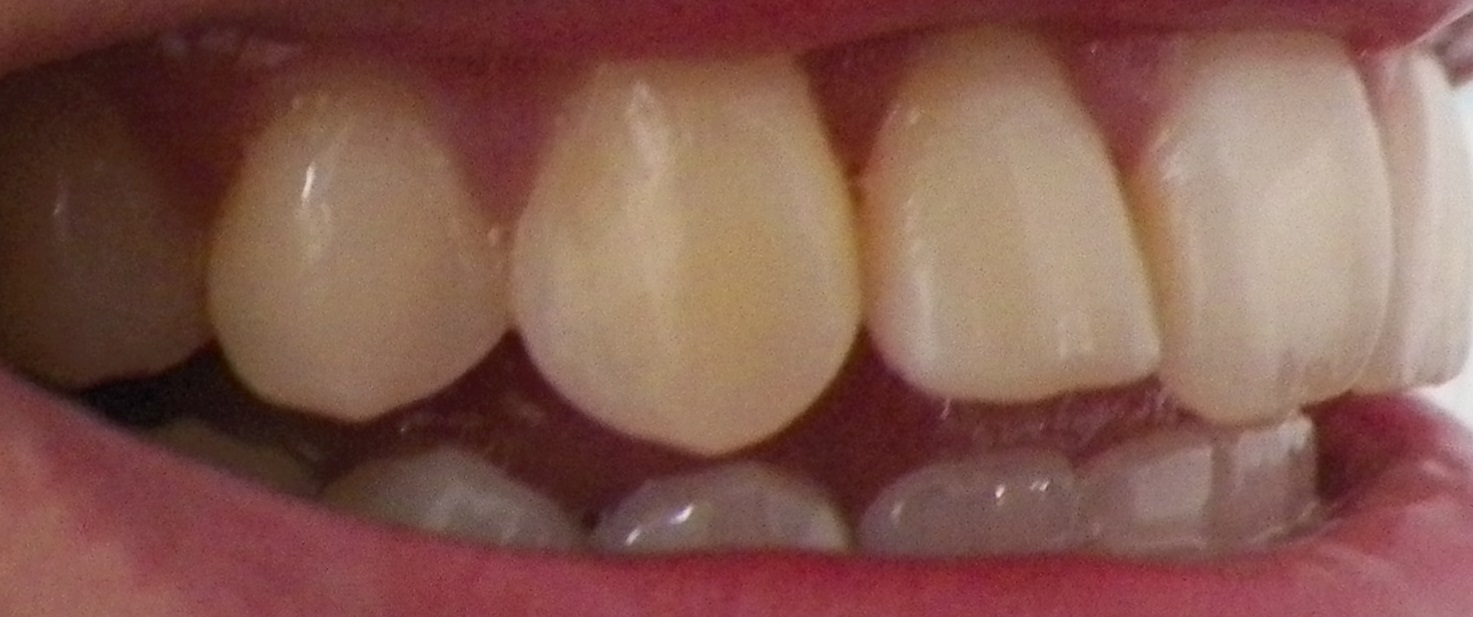boca: (24, 51, 1473, 548)
